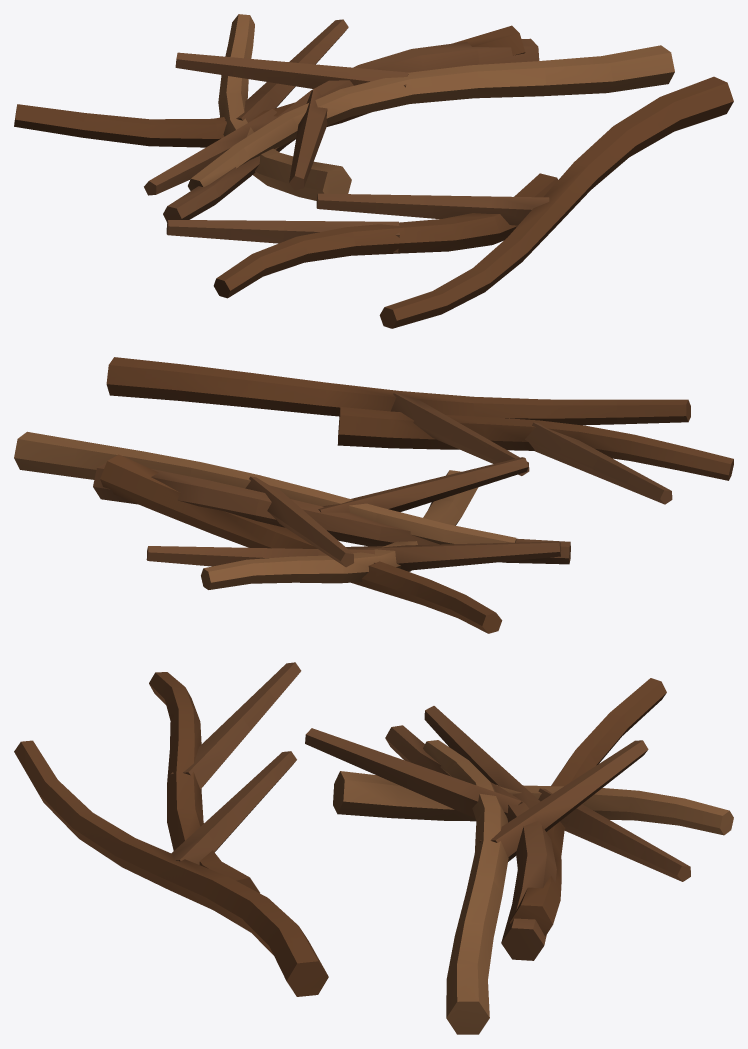
The model's file is glade_gc_twigs_c.glb.
3 views of the same model, one above another, from view 1: azimuth 30°, elevation 25°; view 2: azimuth 150°, elevation 25°; view 3: azimuth 270°, elevation 25° (orthographic). The views are drawn at different scales.
Visible parts, largest first — view 1: glade_gc_twigs_c; view 2: glade_gc_twigs_c; view 3: glade_gc_twigs_c.
Boxes of the visible parts, bbox=[...] form: glade_gc_twigs_c: bbox=[14, 14, 733, 328]; glade_gc_twigs_c: bbox=[14, 357, 733, 633]; glade_gc_twigs_c: bbox=[14, 662, 733, 1034].
Size of the model in its own units: 4.1 by 0.4607 by 3.96.
